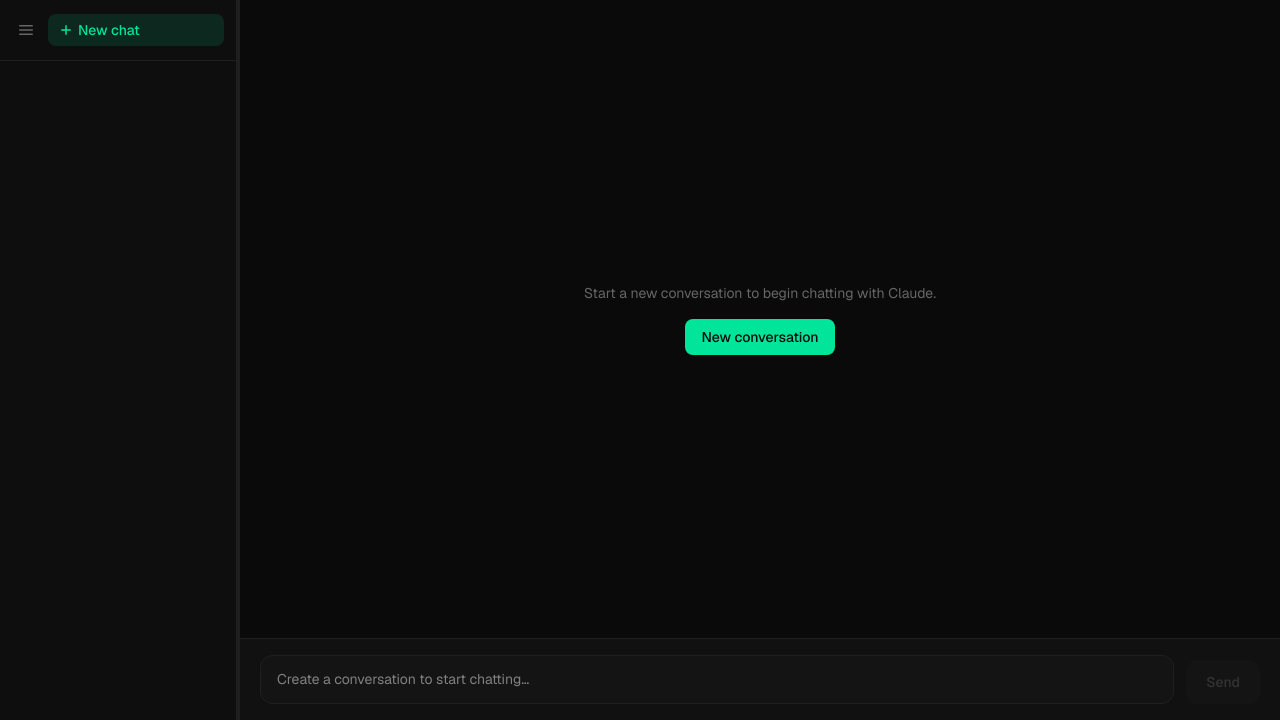
Test case: ChatView › send button is enabled when input has text and a conversation is active
Click the button with test id "new-conversation-button" at point(136, 30), box 48,14 -> 224,46
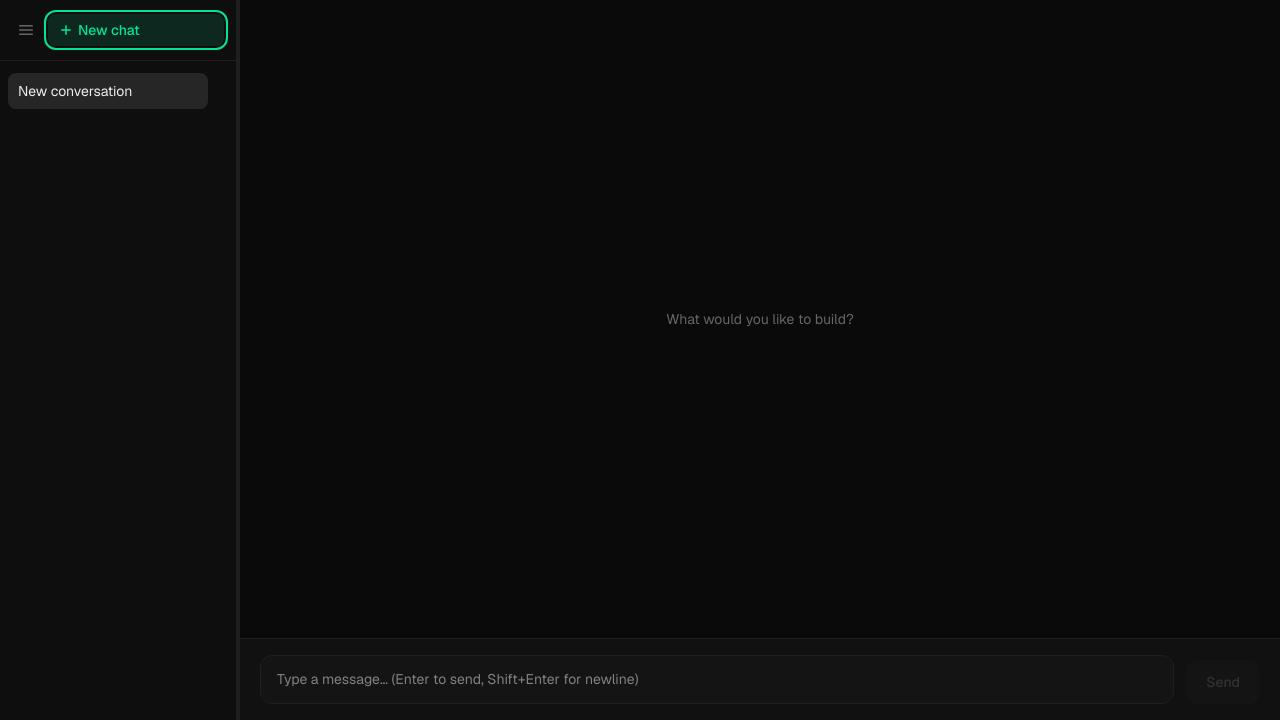
Type "Hello" into the text box at point(717, 680), box 260,655 -> 1174,704
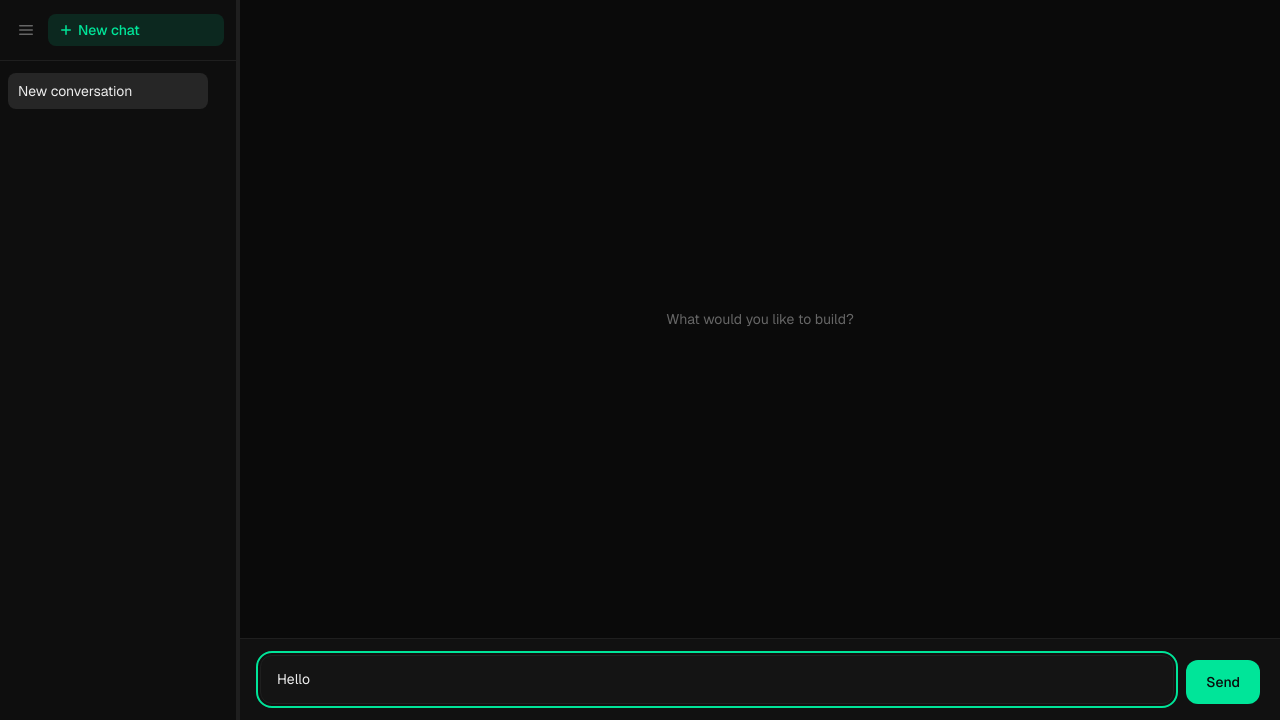
Result: the button with test id "send-button" is enabled at 1186,660 -> 1260,704
